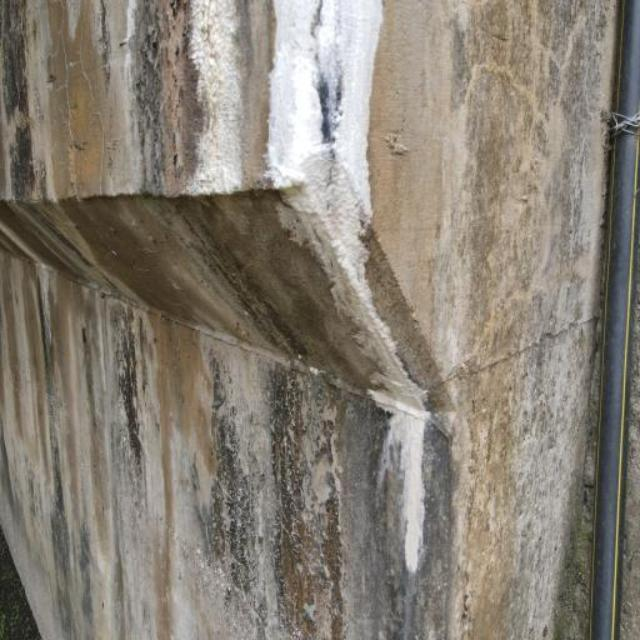D01: (266, 0, 428, 573), (186, 2, 245, 197)
